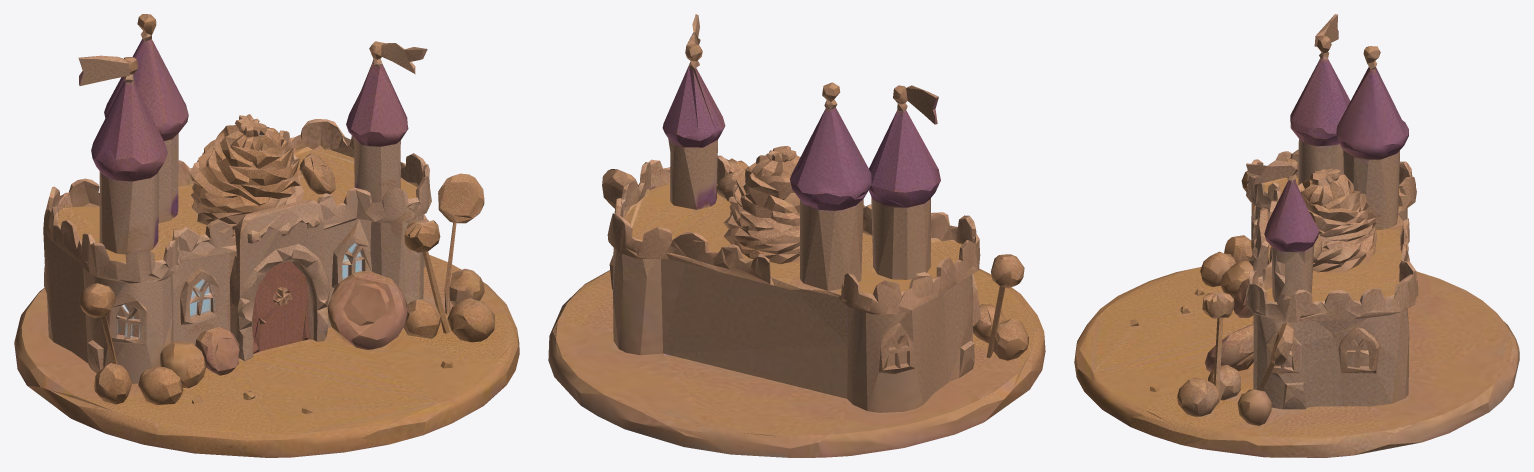
The model's file is castelo_doces.glb.
The picture shows the model from 3 angles, left to right: view 1: azimuth 30°, elevation 25°; view 2: azimuth 150°, elevation 25°; view 3: azimuth 270°, elevation 25°; orthographic projection. The views are drawn at different scales.
Bounding box in the file's own units: 1.9 × 1.34 × 1.9.
1 material, 1 textured.
